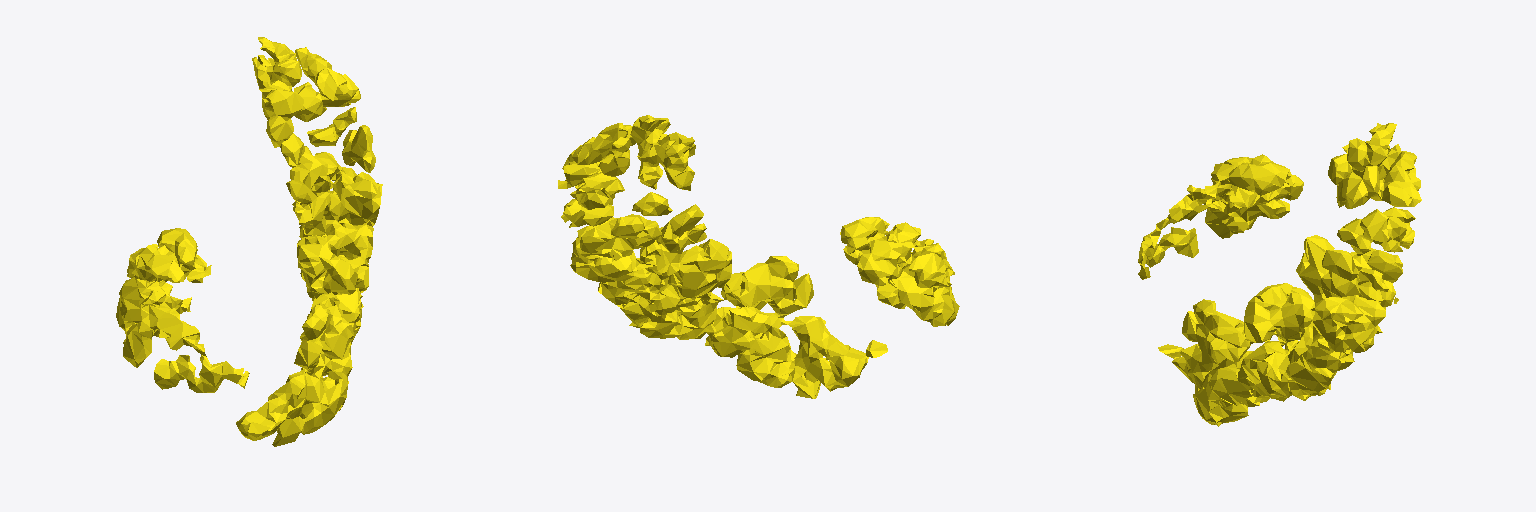
3 renders of one model, left to right at view 1: azimuth 30°, elevation 25°; view 2: azimuth 150°, elevation 25°; view 3: azimuth 270°, elevation 25°, orthographic.
Visible parts, largest first — view 1: Polygonal_Model_9_Triangles_0; view 2: Polygonal_Model_9_Triangles_0; view 3: Polygonal_Model_9_Triangles_0.
Part boxes in pixels (x1,y1,x2,y2): Polygonal_Model_9_Triangles_0: (116, 37, 382, 446); Polygonal_Model_9_Triangles_0: (558, 115, 959, 398); Polygonal_Model_9_Triangles_0: (1138, 123, 1421, 426).
Bounding box in the file's own units: 6.4 × 6.37 × 5.03.